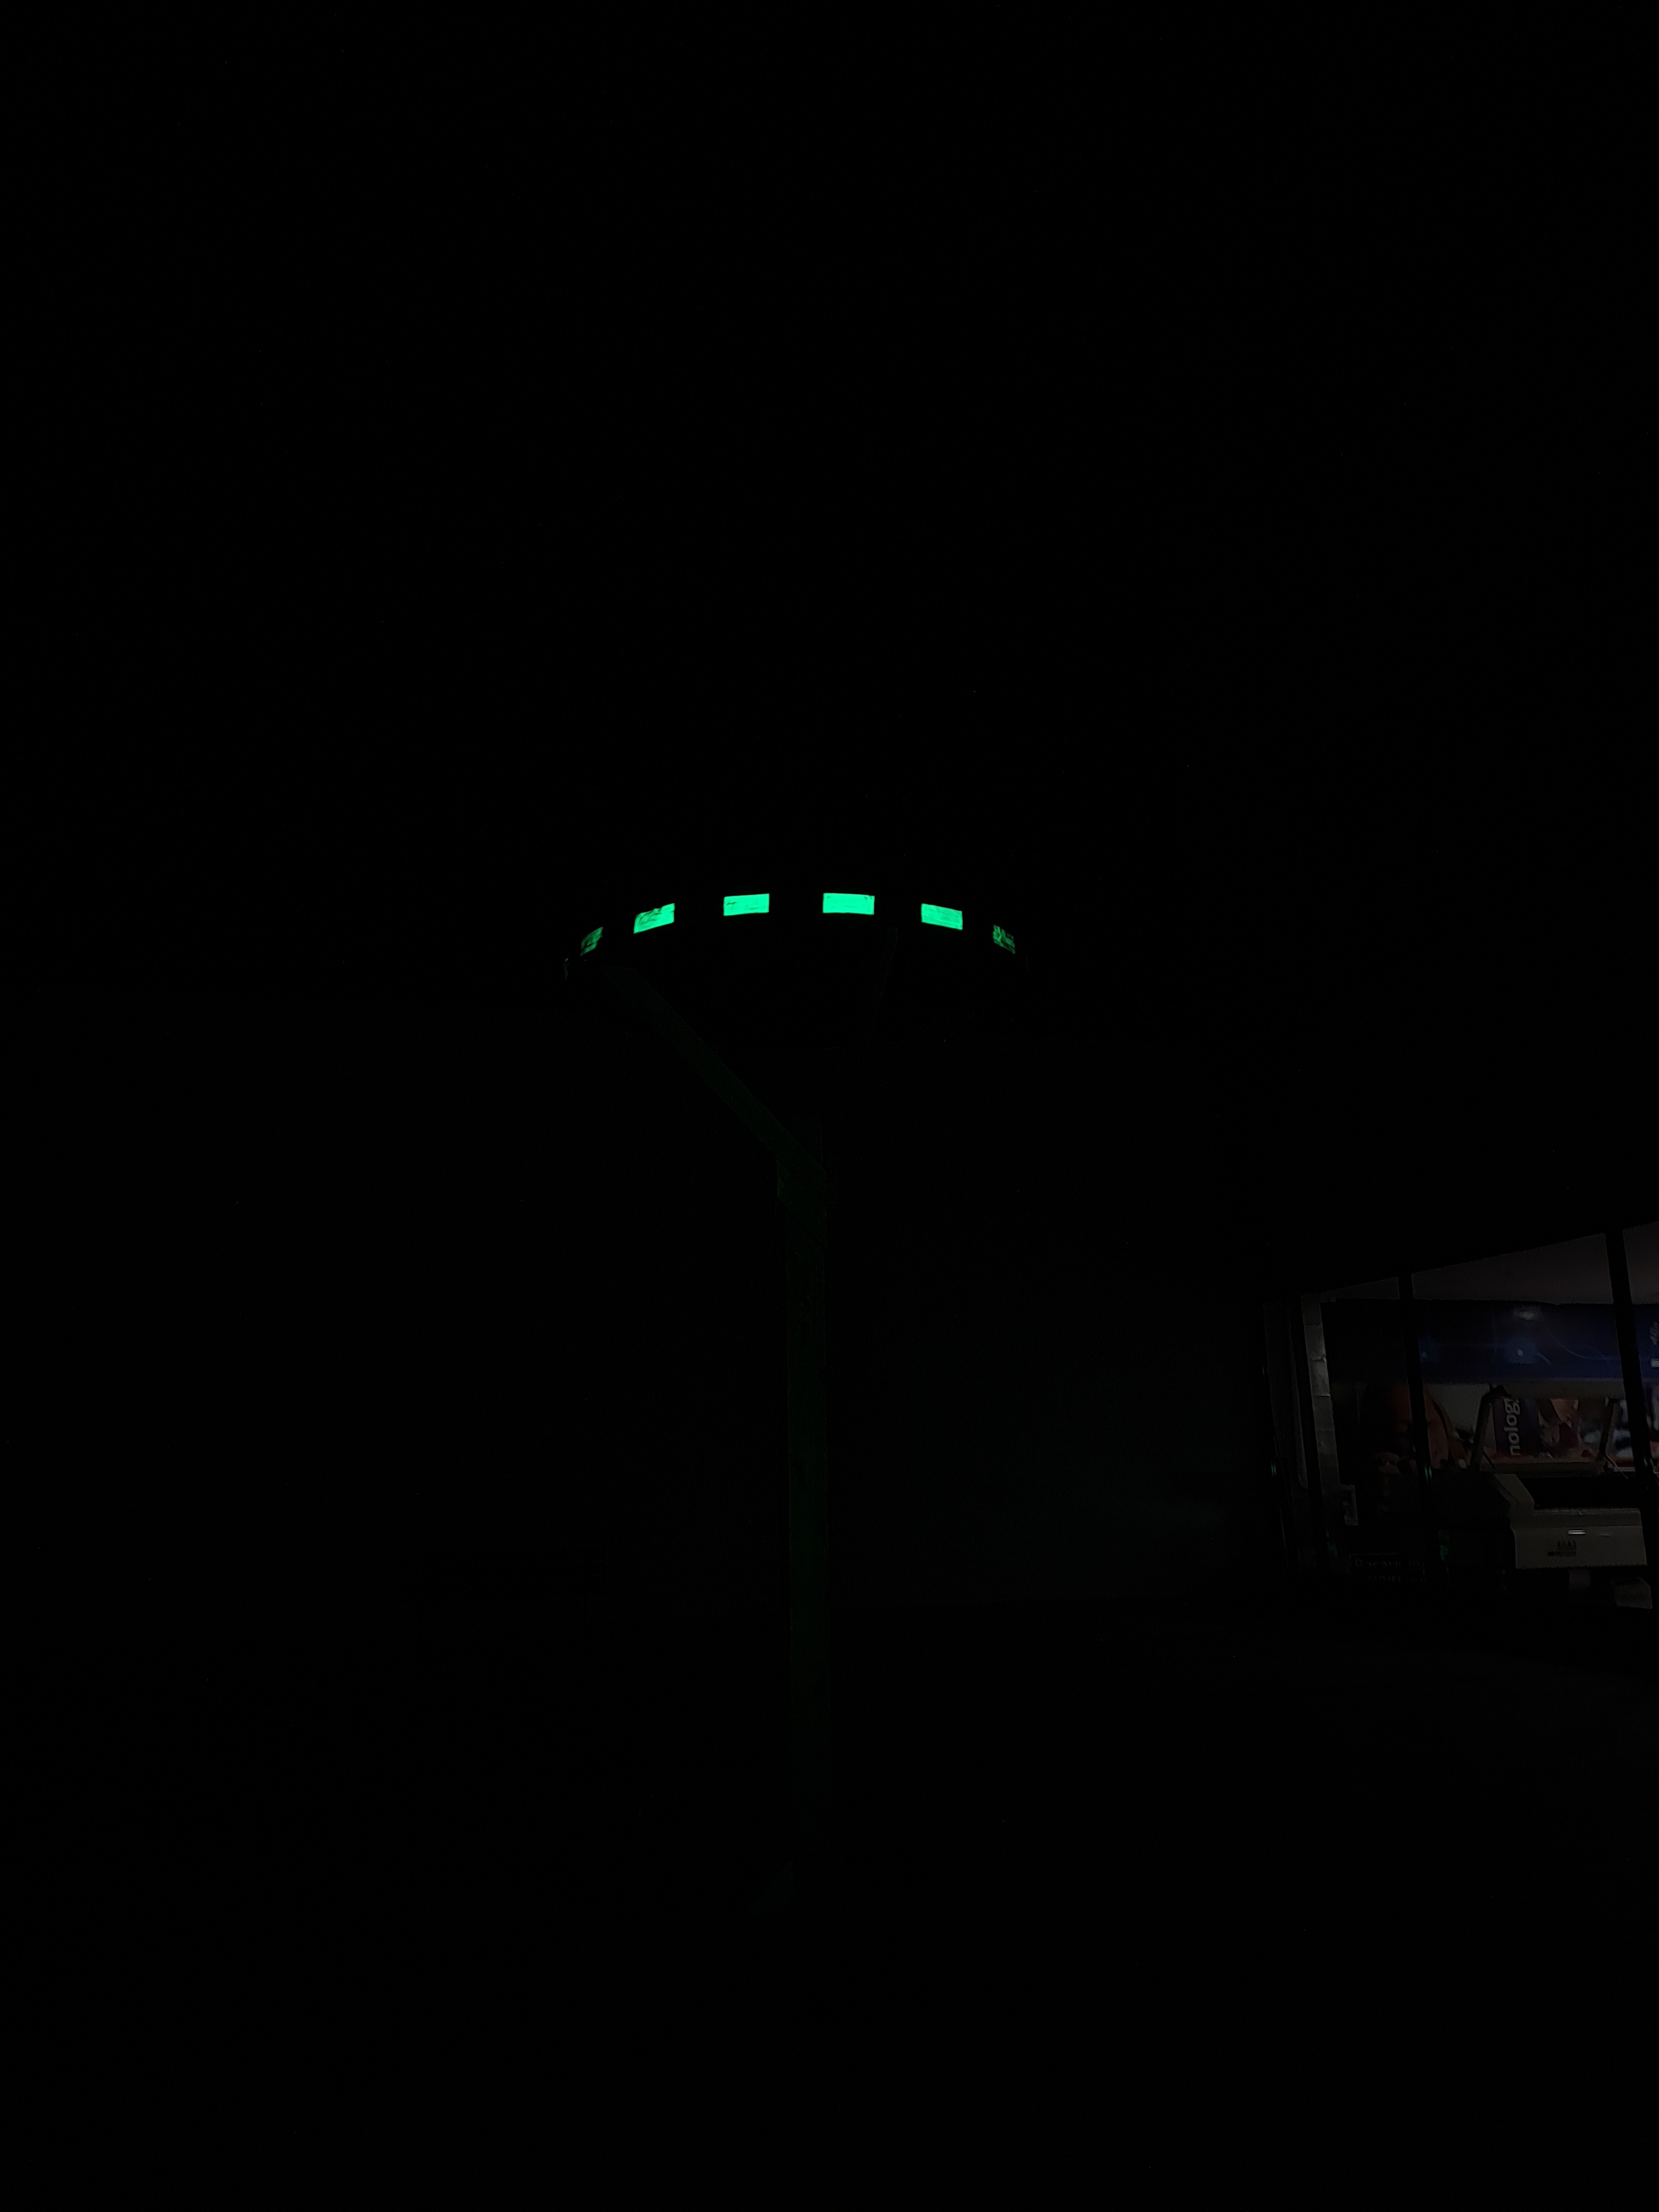hoop: (528, 864, 1039, 977)
